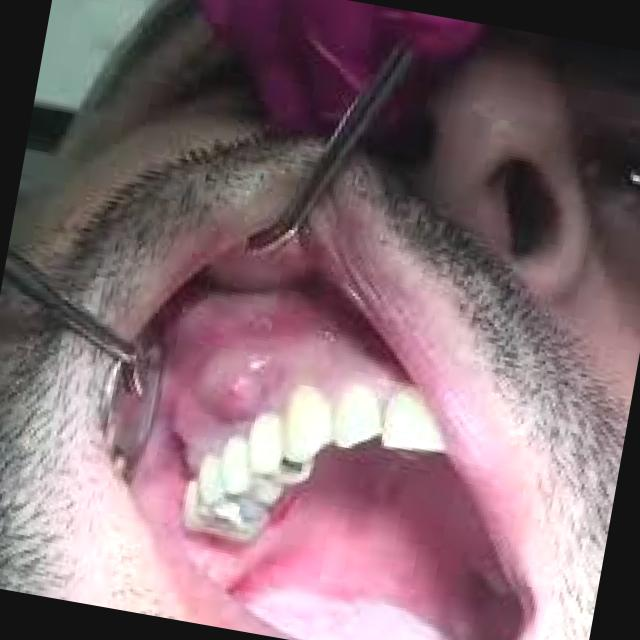abscess: (164, 343, 296, 431)
